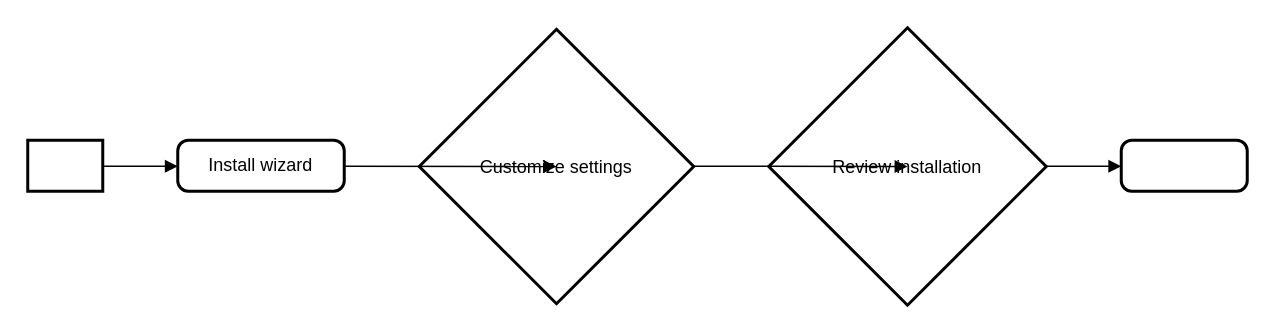
The diagram is 1274 pixels wide and 332 high, and some of its shapes have lost their labels. The shapes that lost their labels are listed below. From the top down, each one's box as (x1, y1, x2, y2) in pixels, then its label:
(26, 138, 104, 192): Start
(1119, 138, 1248, 192): Complete
